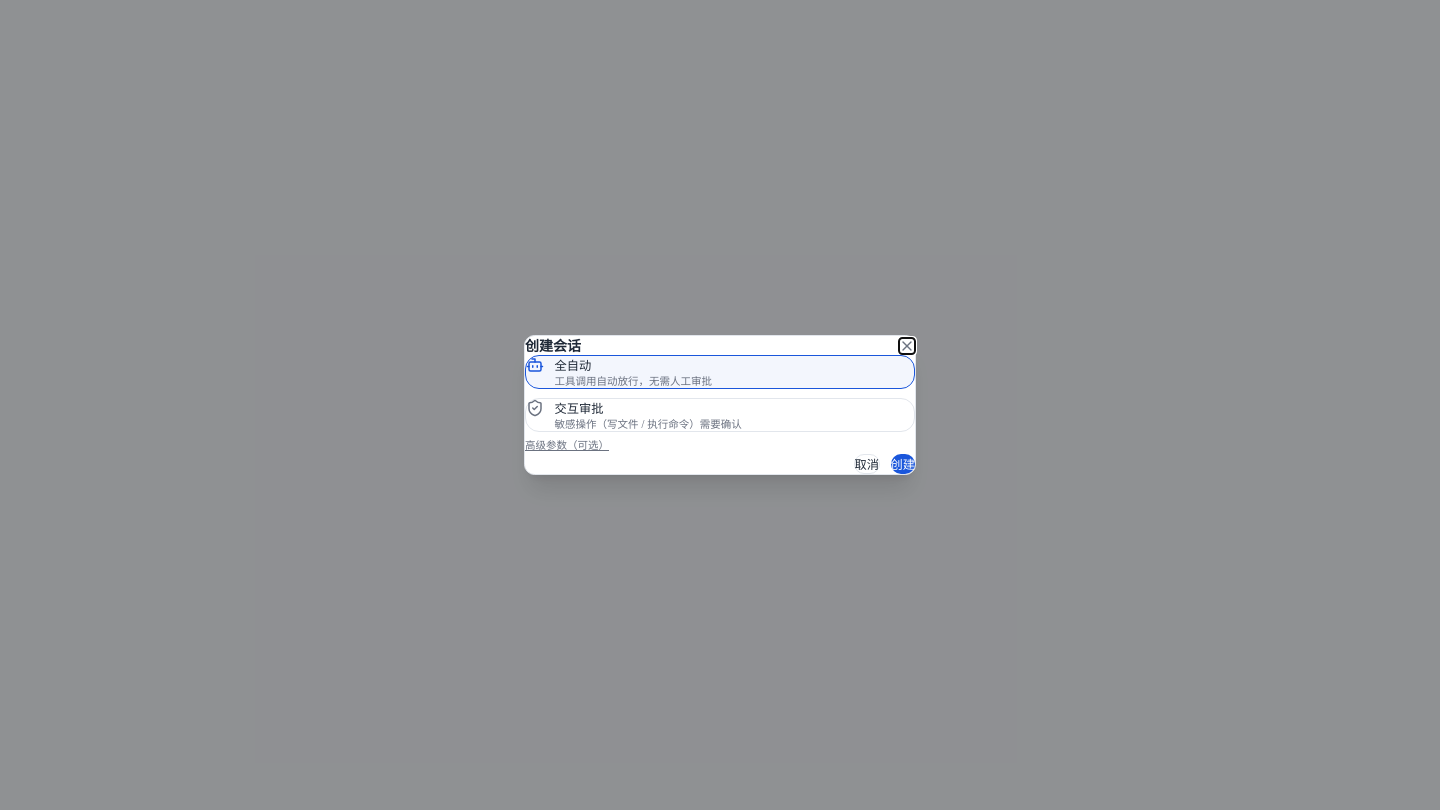
Test: CreateDialog › 提交失败展示后端错误且保持对话框打开
The image size is (1440, 810).
Click the button "创建" at (903, 464), box 890,454 -> 915,474
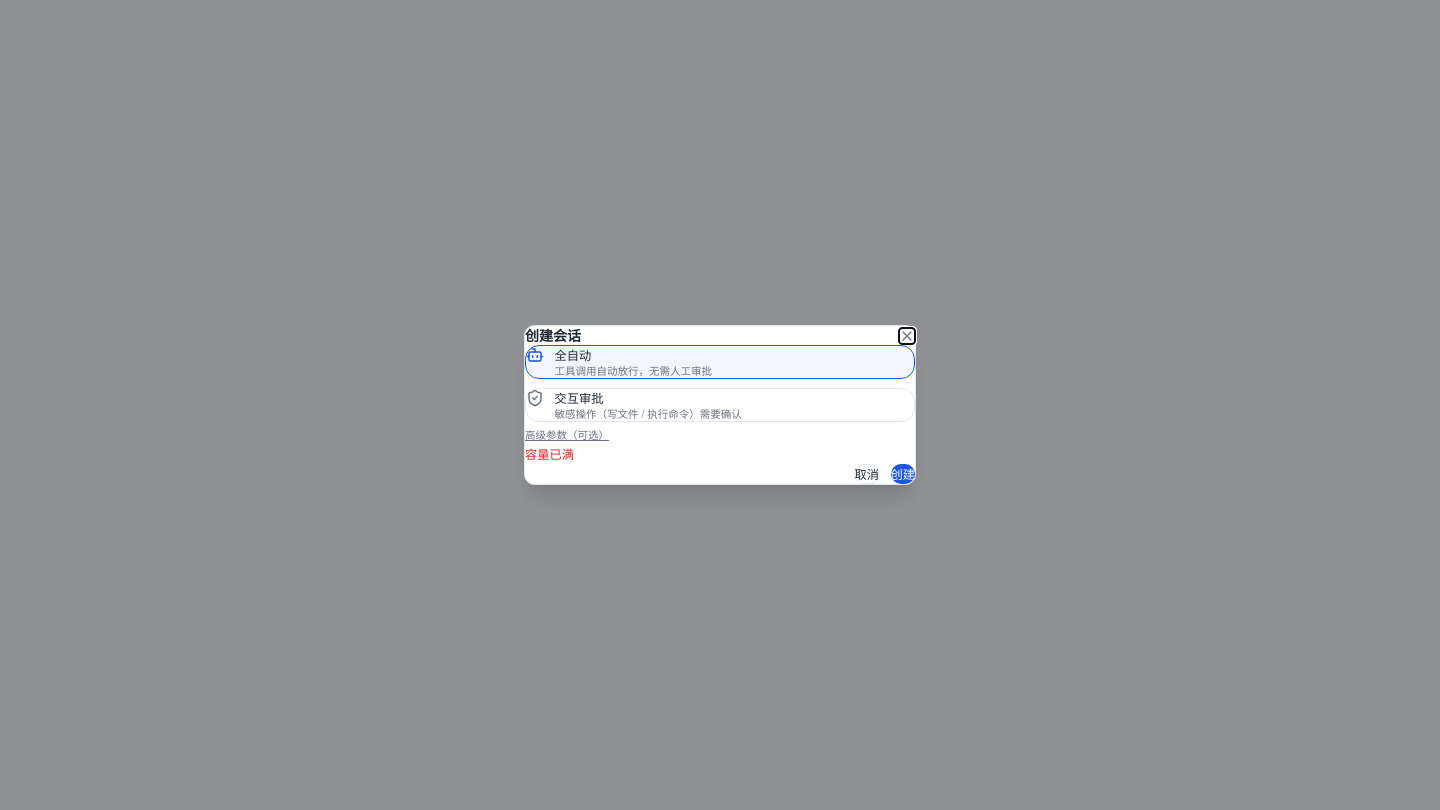
Expected: the message reads "容量已满", 525,445 -> 574,462
